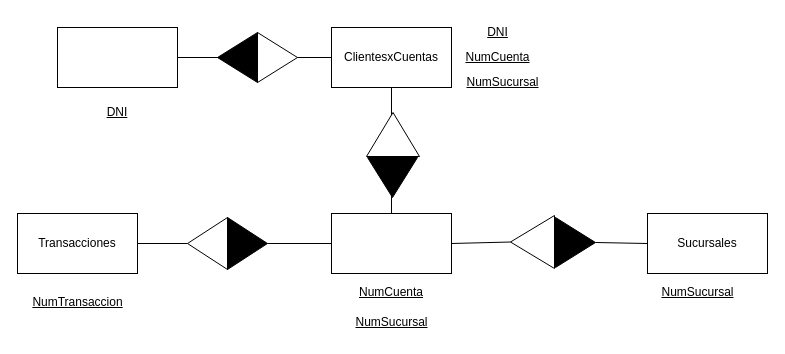
This 785x354 diagram has some shape labels left out. Each missing label, with the centre of its shape:
Clientes: (x=117, y=57)
Cuentas: (x=391, y=243)
